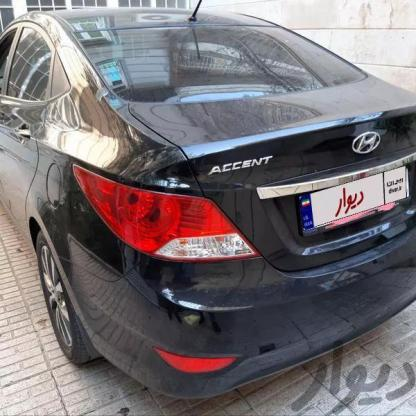Car: (0, 0, 410, 416)
